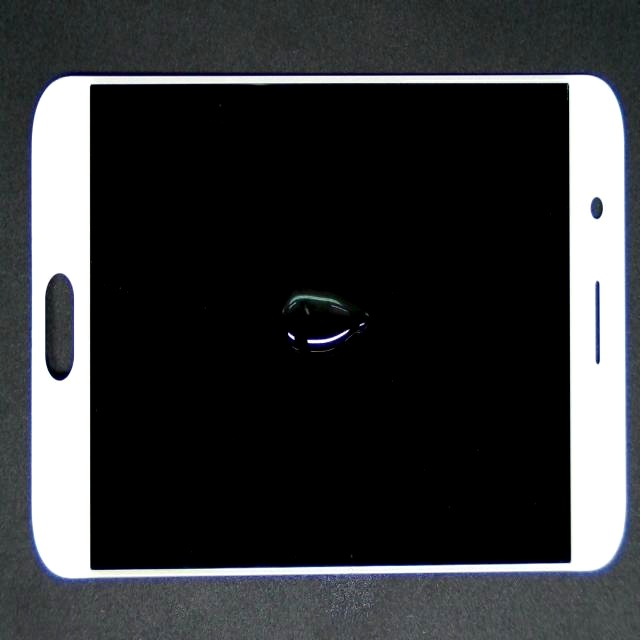oil: (155, 192, 525, 512)
